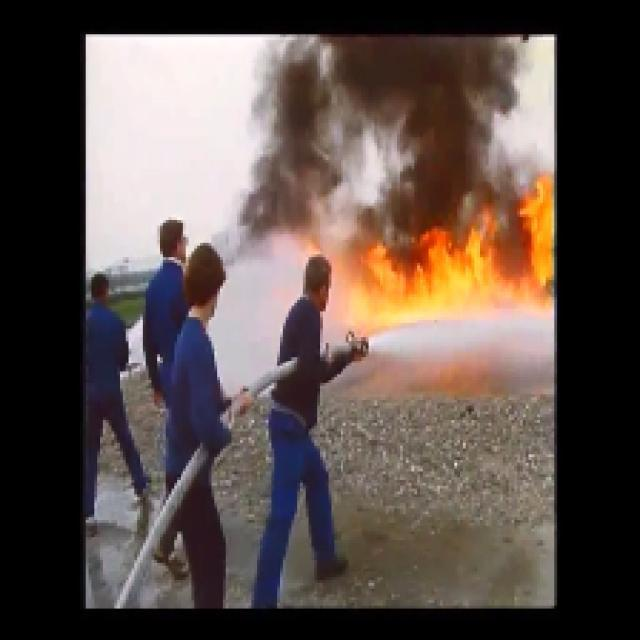Fire: (362, 214, 550, 300)
Smoke: (351, 33, 518, 193), (271, 52, 332, 220)
